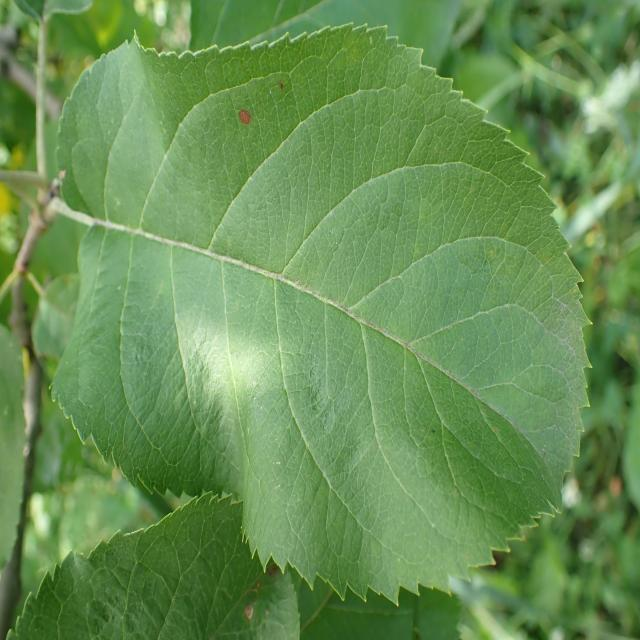Black Rot: (217, 80, 262, 160)
